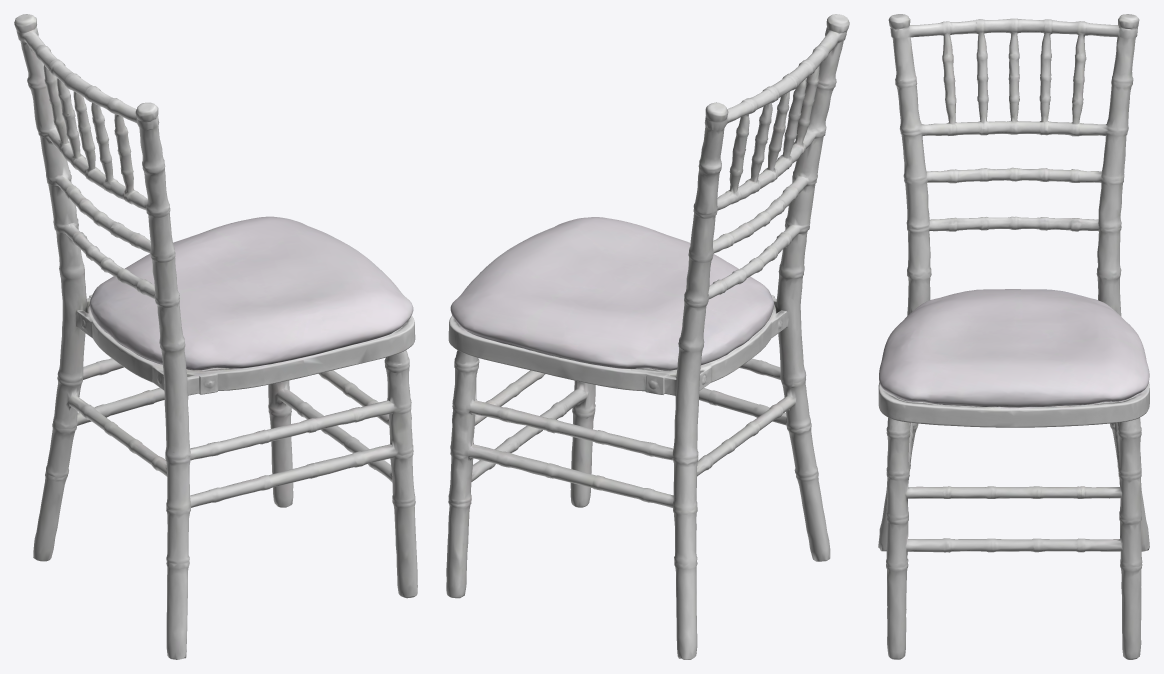
File: chiavari.glb
3 views of the same model, side by side, from view 1: azimuth 30°, elevation 25°; view 2: azimuth 150°, elevation 25°; view 3: azimuth 270°, elevation 25° (orthographic). The views are drawn at different scales.
Visible parts, largest first — view 1: tripo_node_1b6ed54c-566c-4154-9d63-ce0518fedaec; view 2: tripo_node_1b6ed54c-566c-4154-9d63-ce0518fedaec; view 3: tripo_node_1b6ed54c-566c-4154-9d63-ce0518fedaec.
Part boxes in pixels (<box>): tripo_node_1b6ed54c-566c-4154-9d63-ce0518fedaec: <box>14,14,417,659</box>; tripo_node_1b6ed54c-566c-4154-9d63-ce0518fedaec: <box>446,14,849,659</box>; tripo_node_1b6ed54c-566c-4154-9d63-ce0518fedaec: <box>878,14,1149,659</box>.
Bounding box in the file's own units: 0.5731 × 1 × 0.4712.
1 material, 1 textured.
